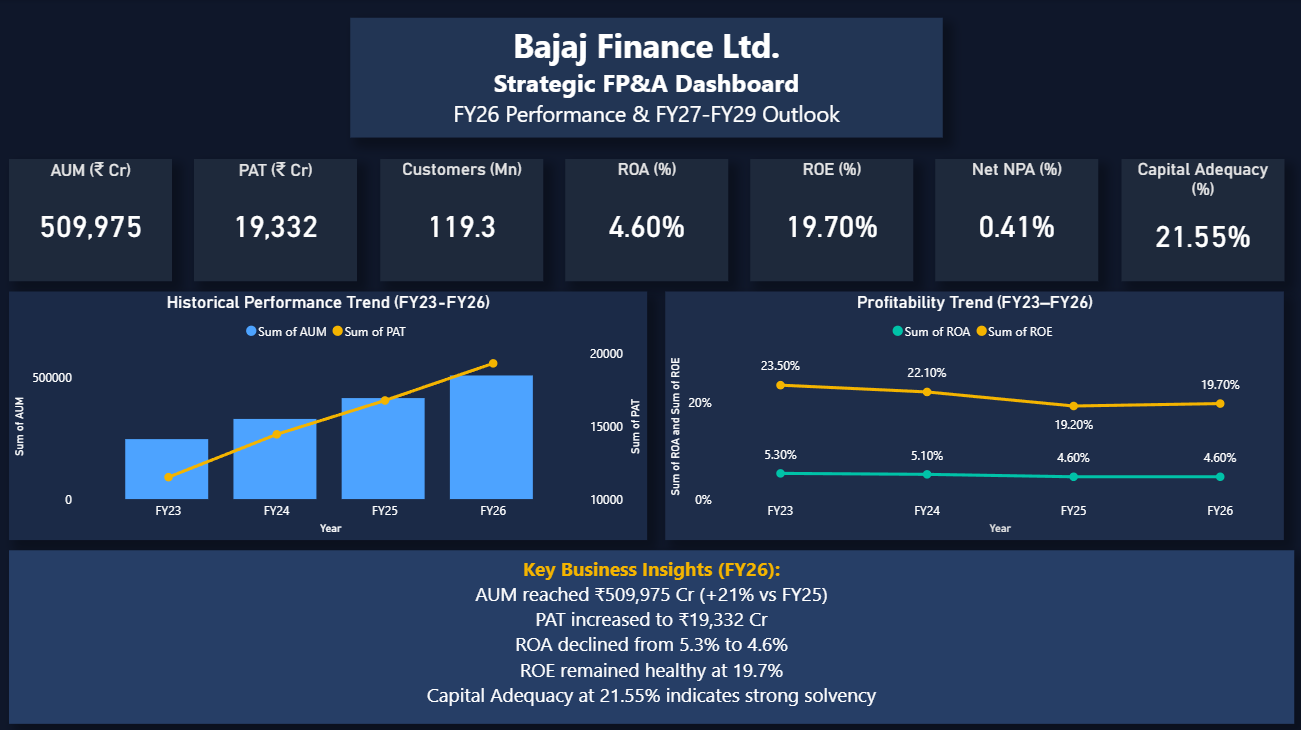

The page's visual inventory and layout, read from the dashboard file:
{"tool":"powerbi","page":{"name":"Executive Summary","canvas":[1280,720],"ordinal":0},"visuals":[{"type":"card","title":"AUM (₹ Cr)","fields":{"Values":["Sum(KPI.Value)"]},"box":[10,157.5,160,120],"z":0},{"type":"card","title":"PAT (₹ Cr)","fields":{"Values":["Sum(KPI.Value)"]},"box":[191.9,157.5,160,120],"z":1000},{"type":"card","title":"Customers (Mn)","fields":{"Values":["Sum(KPI.Value)"]},"box":[373.8,157.5,160,120],"z":2000},{"type":"card","title":"ROA (%)","fields":{"Values":["KPI.ROA KPI"]},"box":[555.6,157.5,160,120],"z":3000},{"type":"card","title":"ROE (%)","fields":{"Values":["KPI.ROE KPI"]},"box":[737.5,157.5,160,120],"z":4000},{"type":"card","title":"Capital Adequacy (%)","fields":{"Values":["KPI.Capital Adequacy KPI"]},"box":[1101.2,157.5,160,120],"z":5000},{"type":"card","title":"Net NPA (%)","fields":{"Values":["KPI.Net NPA KPI"]},"box":[919.4,157.5,160,120],"z":6000},{"type":"textbox","box":[344.8,18.4,581.6,117.8],"z":7000},{"type":"lineClusteredColumnComboChart","title":"Historical Performance Trend (FY23-FY26)","fields":{"Category":["Historical.Year"],"Y":["Sum(Historical.AUM)"],"Y2":["Sum(Historical.PAT)"]},"box":[10,287.5,626.2,243.8],"z":8000},{"type":"lineChart","title":"Profitability Trend (FY23–FY26)","fields":{"Category":["Historical.Year"],"Y":["Sum(Historical.ROA)","Sum(Historical.ROE)"]},"box":[653.8,287.5,607.5,243.8],"z":9000},{"type":"textbox","box":[9.8,541.1,1261.4,170.6],"z":10000}]}

Visuals, with their boxes in screenshot pixels (x1, y1, x2, y2), scaled from the page's 1280x720 canvas onto the 1301x730 screenshot:
"AUM (₹ Cr)" card: locate(10, 160, 173, 281)
"PAT (₹ Cr)" card: locate(195, 160, 358, 281)
"Customers (Mn)" card: locate(380, 160, 543, 281)
"ROA (%)" card: locate(565, 160, 727, 281)
"ROE (%)" card: locate(750, 160, 912, 281)
"Capital Adequacy (%)" card: locate(1119, 160, 1282, 281)
"Net NPA (%)" card: locate(934, 160, 1097, 281)
textbox: locate(350, 19, 942, 138)
"Historical Performance Trend (FY23-FY26)" lineClusteredColumnComboChart: locate(10, 291, 647, 539)
"Profitability Trend (FY23–FY26)" lineChart: locate(665, 291, 1282, 539)
textbox: locate(10, 549, 1292, 722)
